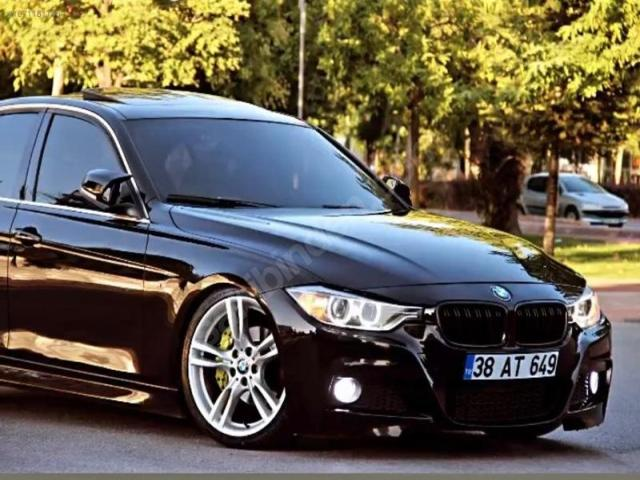plaka: (464, 351, 558, 380)
